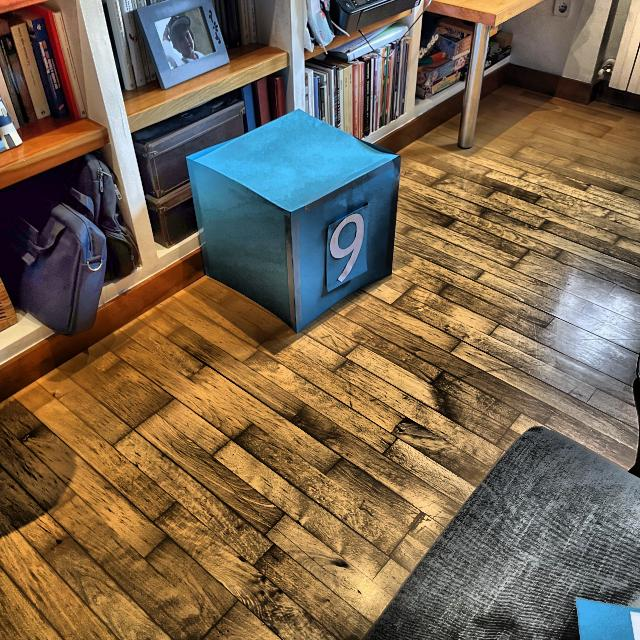blue box: (184, 105, 401, 337)
nine: (327, 210, 367, 286)
